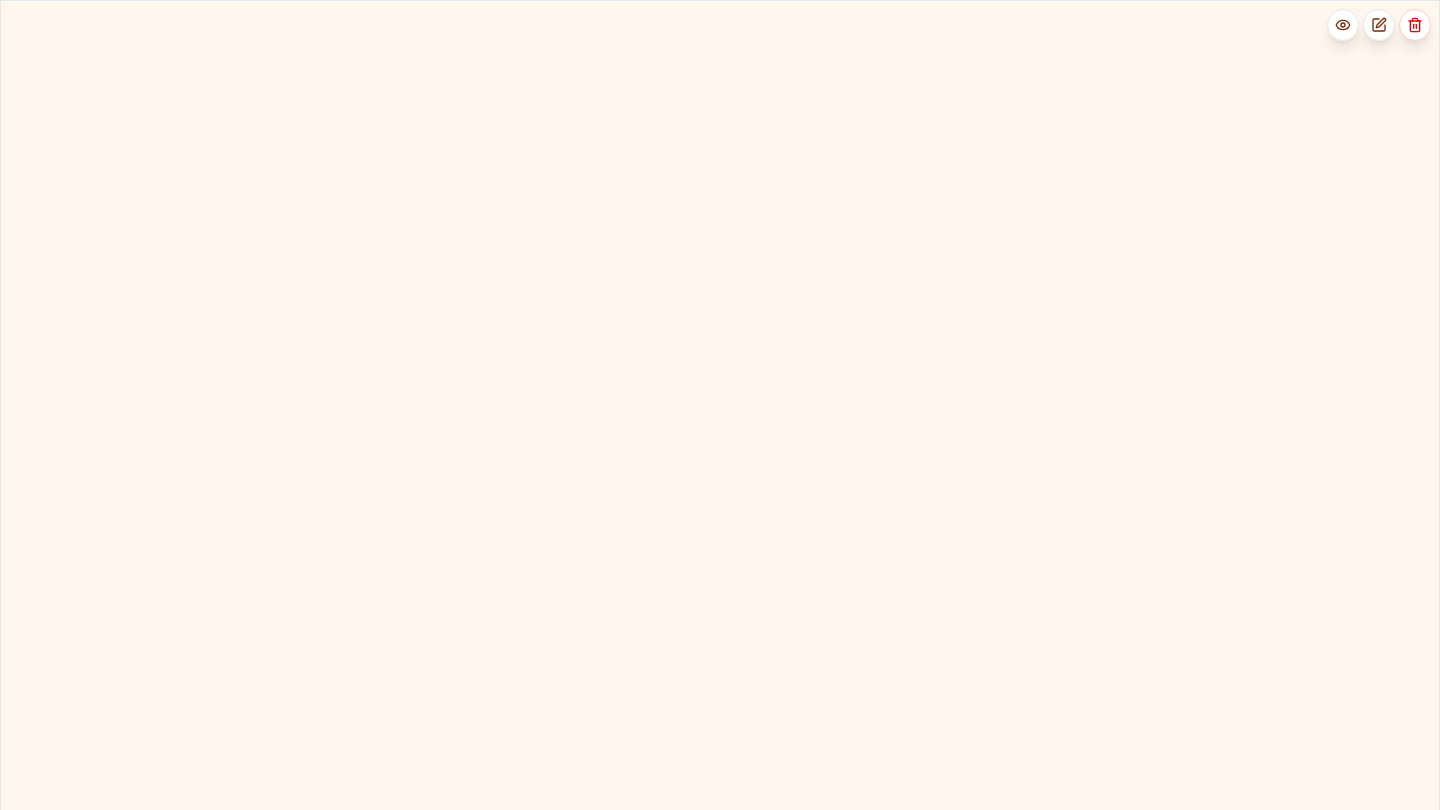
Test: RecipeCard › shows delete dialog when delete button is clicked
Click the button named "Delete recipe" at [1415, 25], box [1399, 9, 1431, 41]
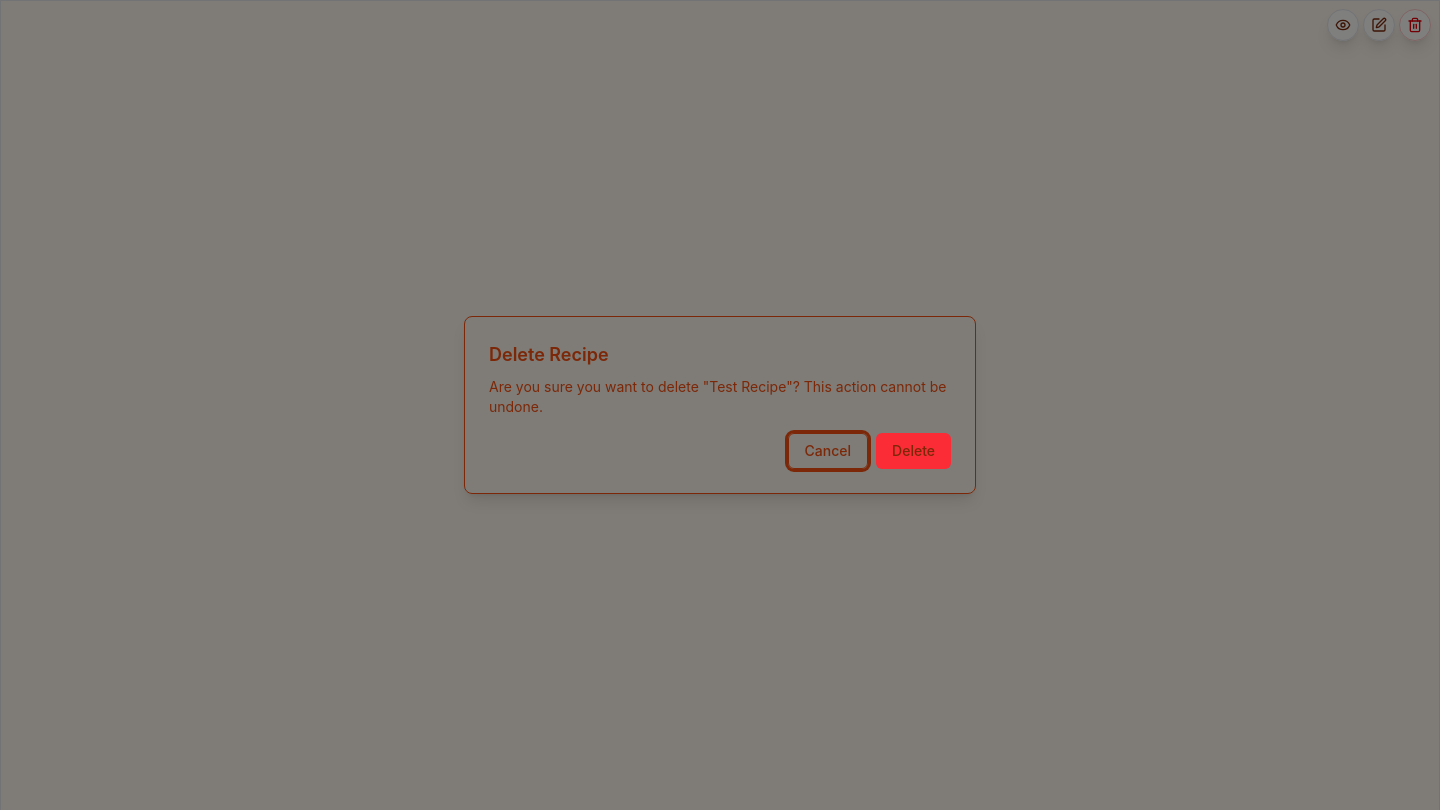
Check: the heading "Delete Recipe" is shown, box [489, 344, 609, 365]
Check: the text "Are you sure you want to delete" is shown, box [489, 378, 709, 395]
